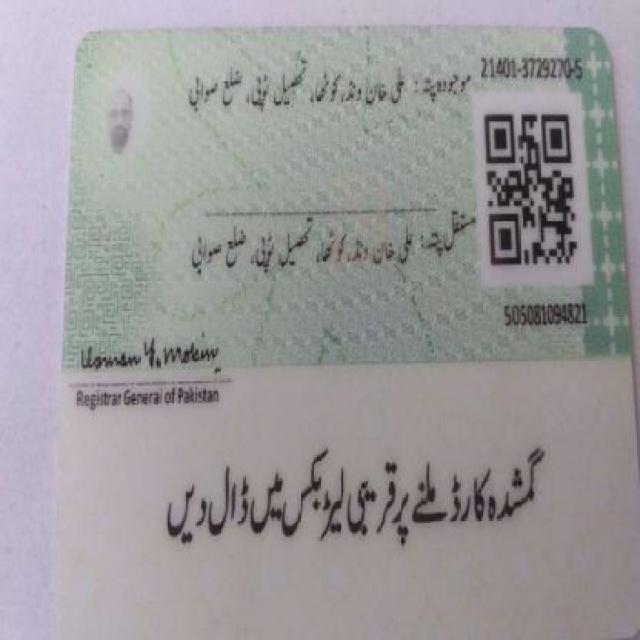Back: (45, 16, 628, 626)
